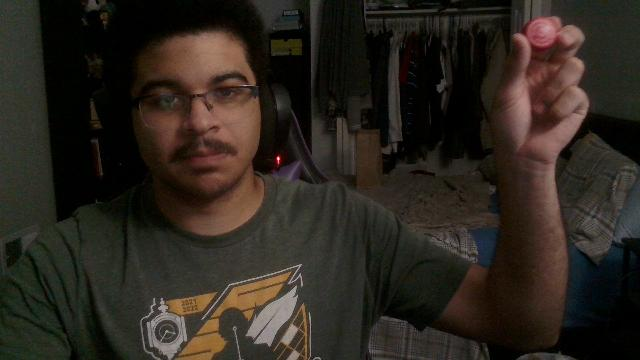cap: (526, 17, 558, 49)
